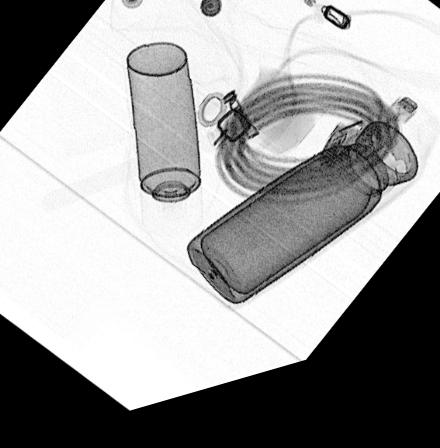Sprayer: (126, 50, 203, 248)
